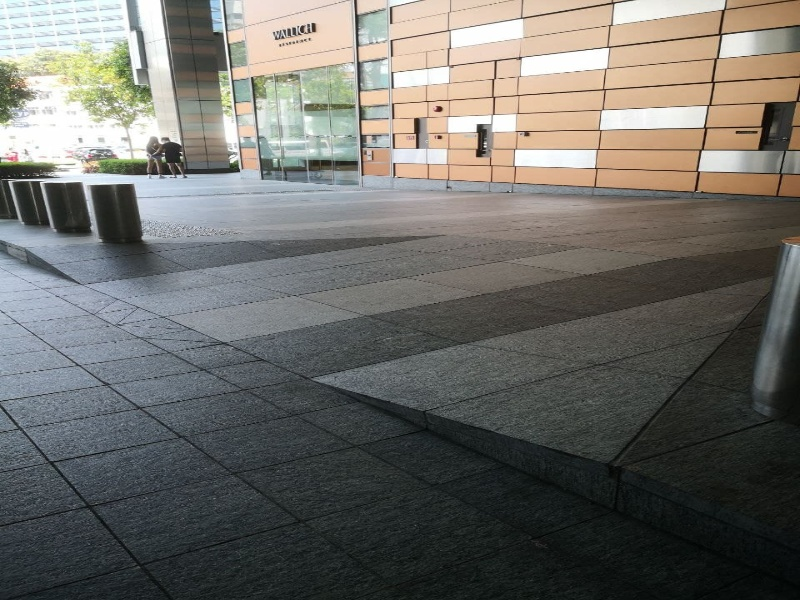slope: (16, 223, 434, 422)
